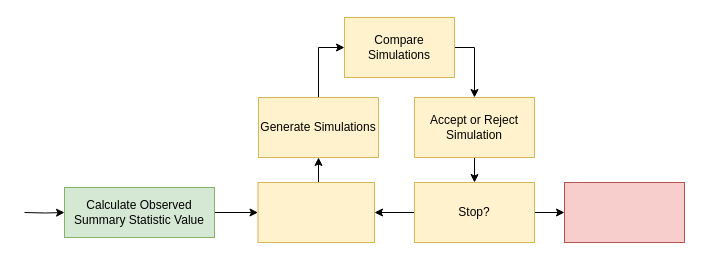
This 702x260 diagram has some shape labels left out. The centre of each missing label's shape, as x and y in pixels:
"Return Accepted Parameter" goes at [624,212].
"Sample Priors" goes at [315,212].
